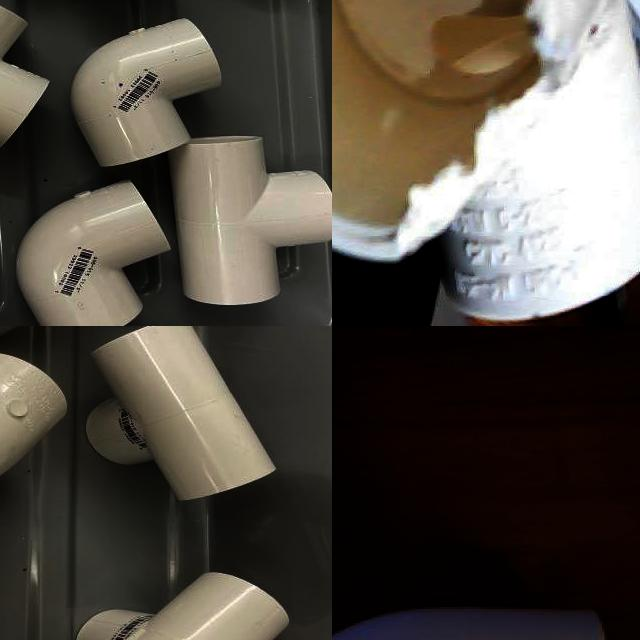Defective: (418, 0, 542, 105), (397, 157, 478, 258), (402, 100, 491, 178)
L Joint: (15, 179, 171, 326), (69, 19, 219, 169), (0, 354, 69, 480)
T Joint: (90, 326, 277, 505), (168, 136, 332, 310), (76, 572, 291, 640)
